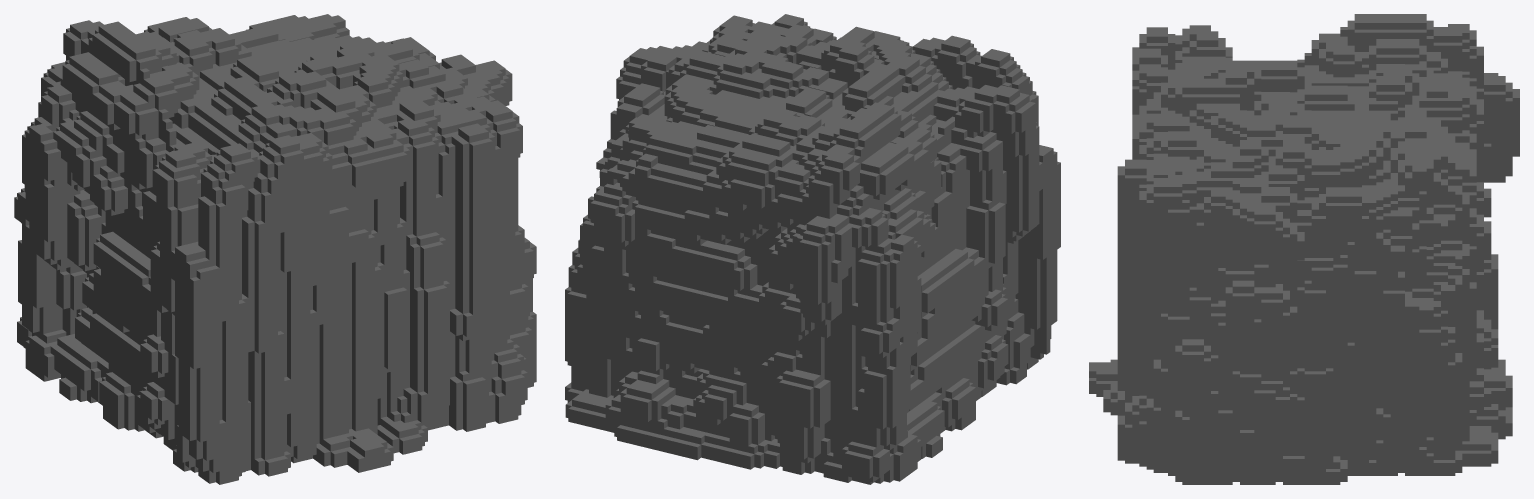
File: Stone0.obj
3 renders of one model, left to right at view 1: azimuth 30°, elevation 25°; view 2: azimuth 150°, elevation 25°; view 3: azimuth 270°, elevation 25°, orthographic. The views are drawn at different scales.
Size of the model in its own units: 5.9 by 5 by 6.
1 material, 1 textured.
